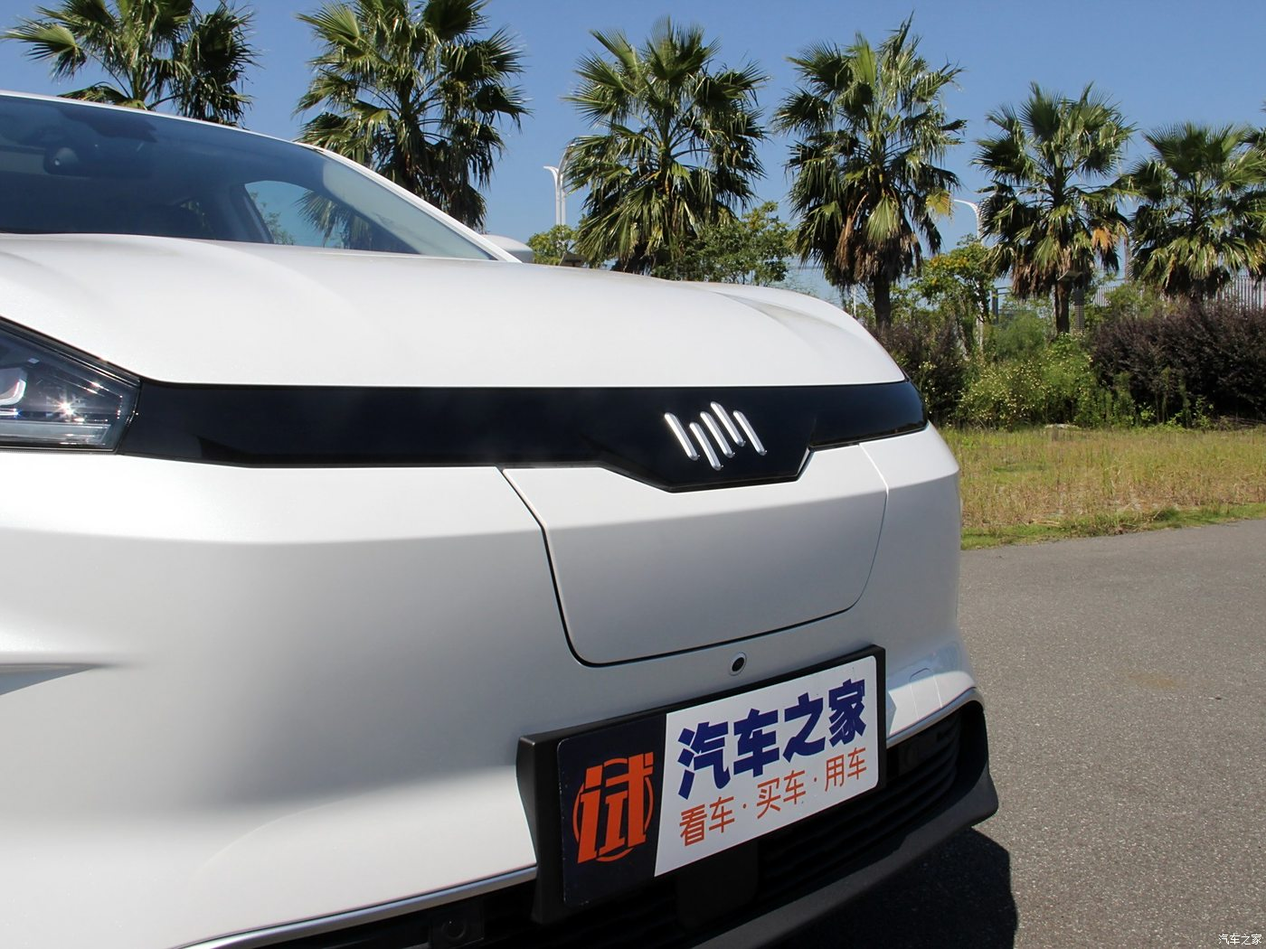WELTMEISTER: (666, 403, 766, 471)
